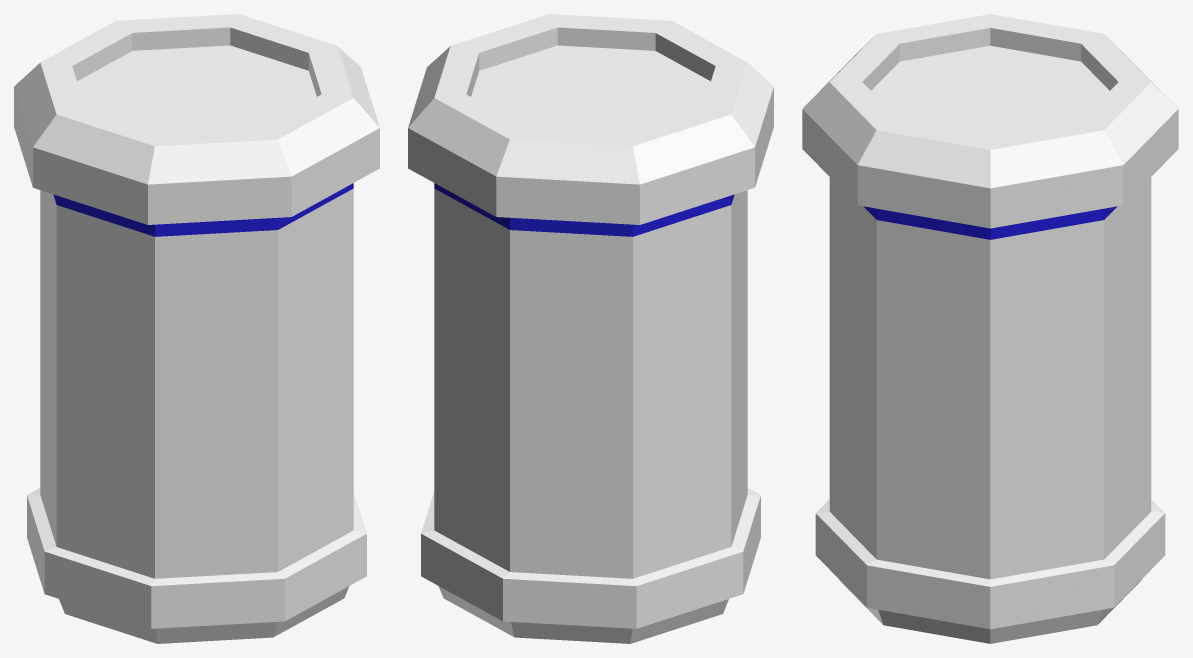
The model's file is BarrelFinal.fbx.
3 views of the same model, side by side, from view 1: azimuth 30°, elevation 25°; view 2: azimuth 150°, elevation 25°; view 3: azimuth 270°, elevation 25° (orthographic).
Parts seen in each view (by area): view 1: pCylinder1; view 2: pCylinder1; view 3: pCylinder1.
Part boxes in pixels (x1,y1,x2,y2): pCylinder1: (14,14,379,643); pCylinder1: (408,14,773,643); pCylinder1: (802,14,1178,643).
Size of the model in its own units: 82.8 by 121 by 82.8.
